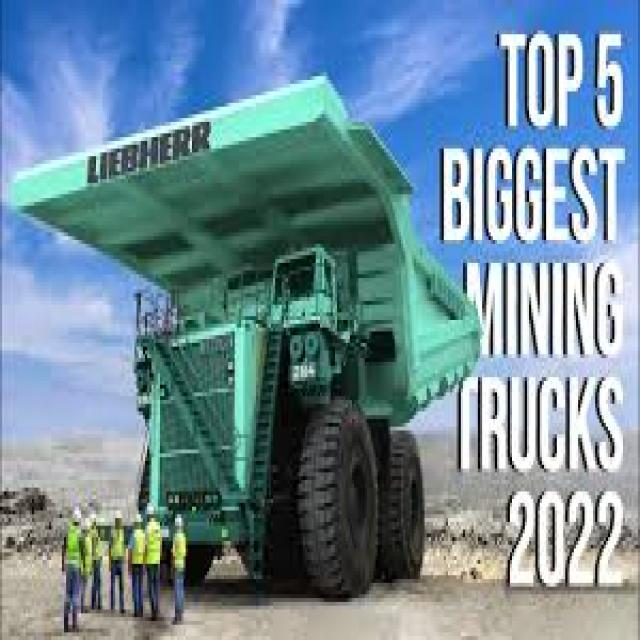dump_truck: (11, 74, 484, 596)
